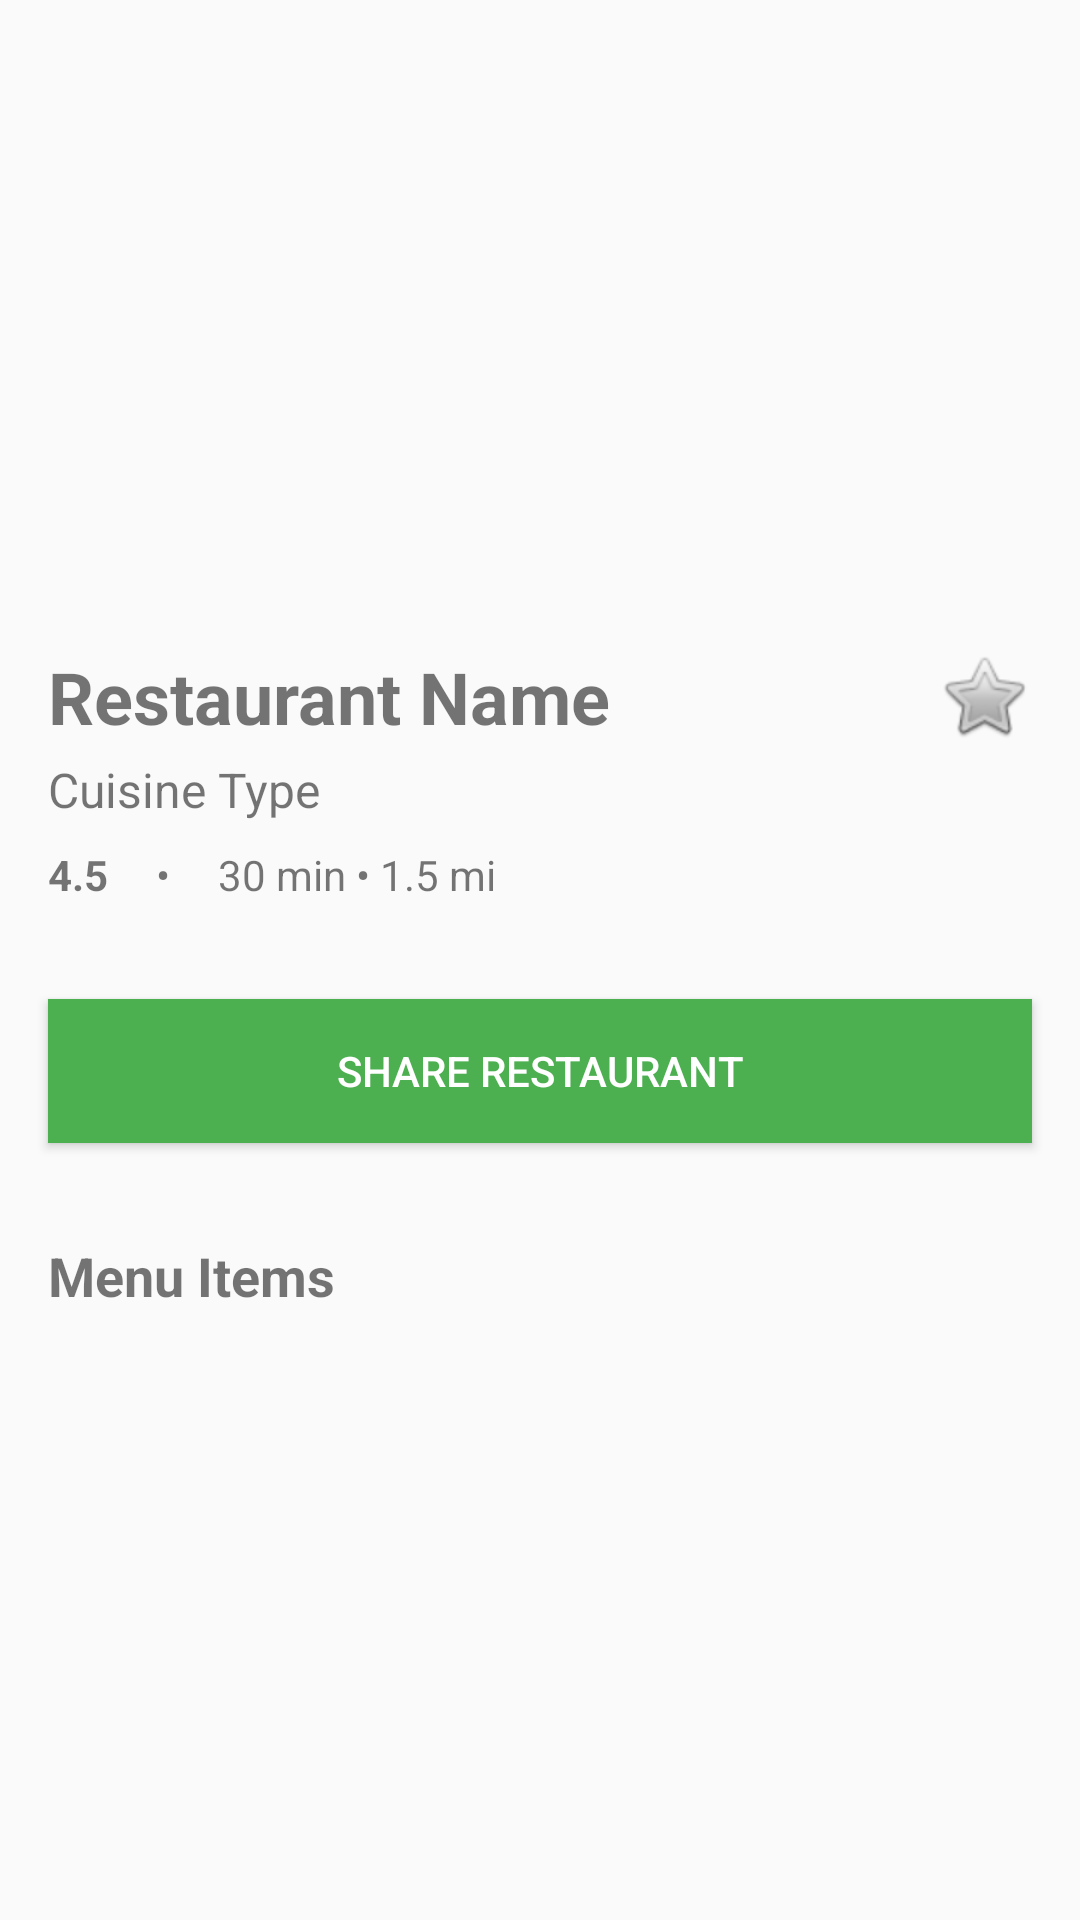

Named icons in this screenshot (1080x1920) and their centers, [x,y]:
star off: [985,697]
